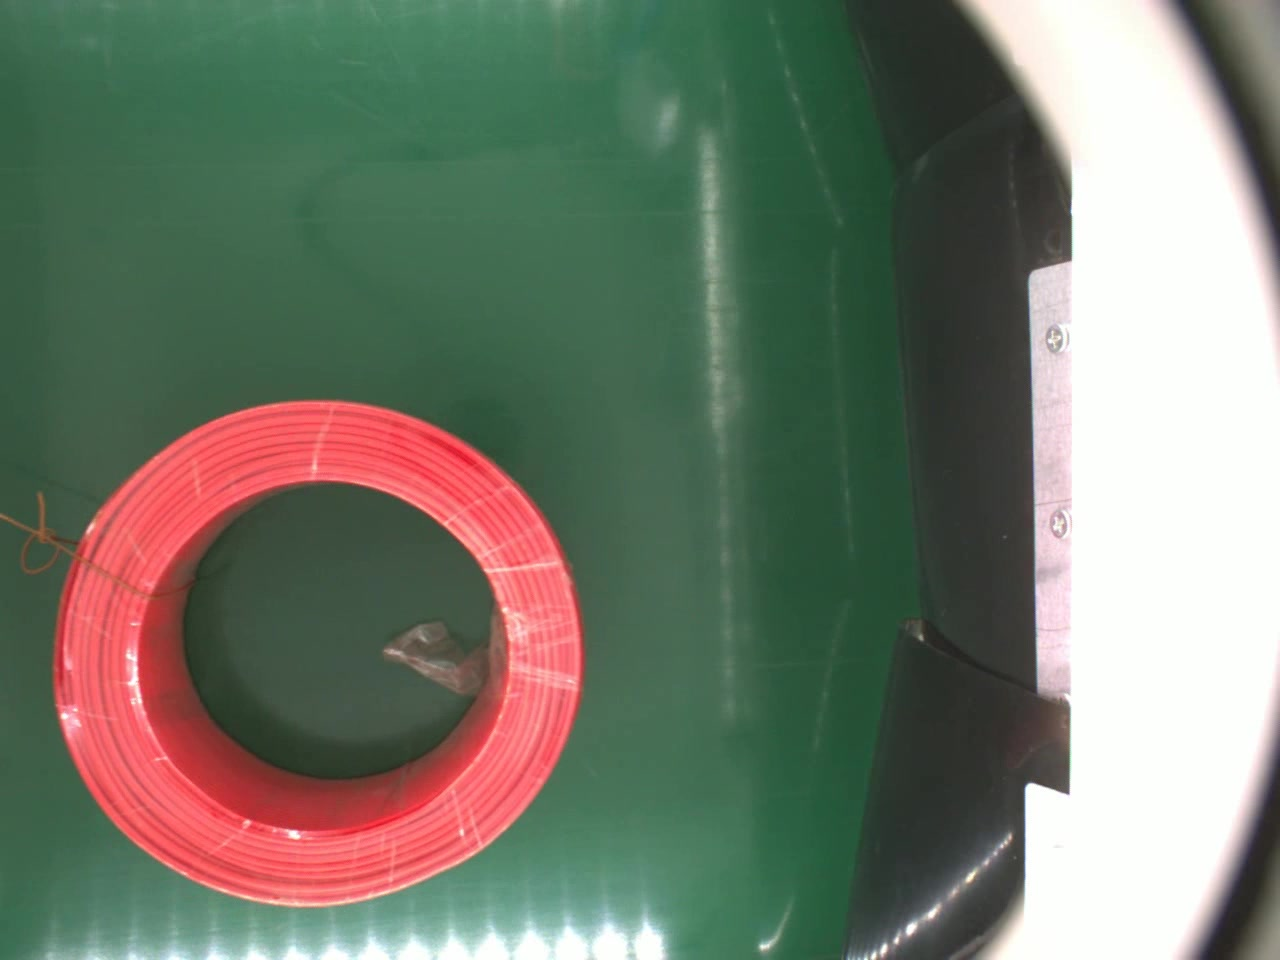red: (50, 394, 585, 908)
